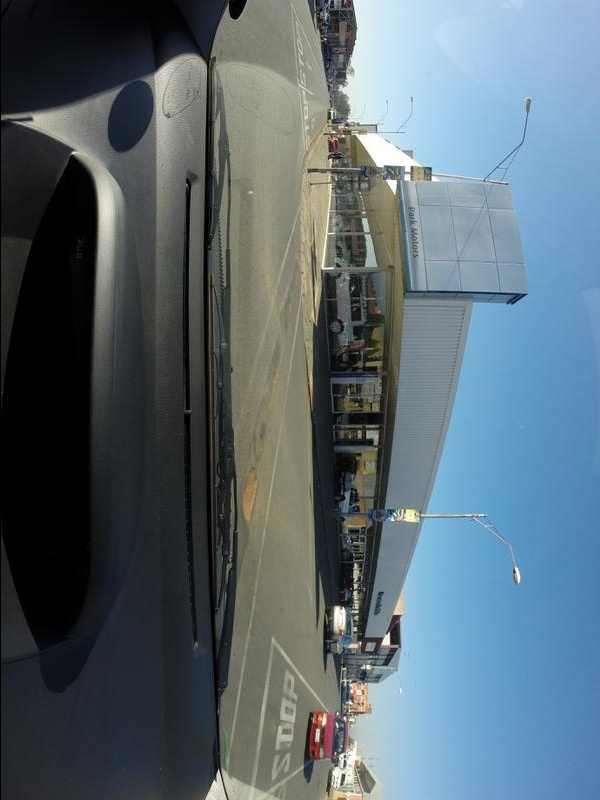pothole: (241, 471, 264, 520), (256, 422, 269, 453)
